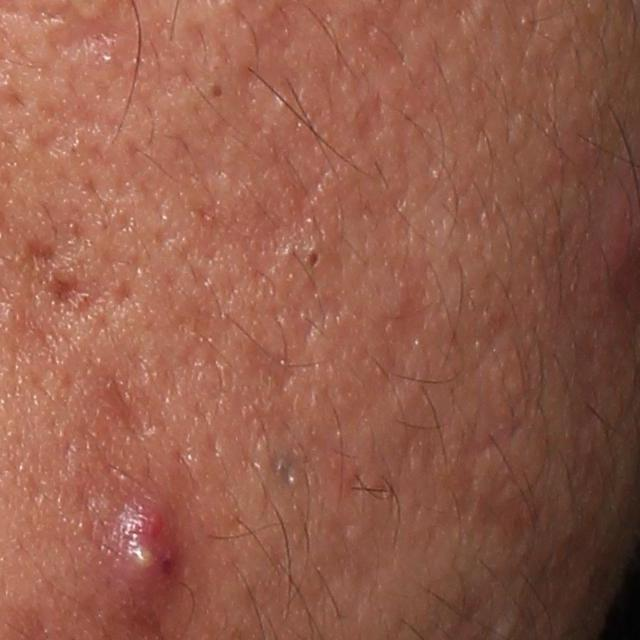atrophic_scar: (179, 151, 356, 279), (445, 316, 523, 520), (370, 284, 429, 414), (98, 370, 155, 442), (19, 219, 81, 274), (237, 338, 298, 392), (42, 272, 97, 318), (252, 4, 295, 52), (352, 90, 386, 149), (105, 276, 139, 307)
comedo: (299, 243, 329, 273), (205, 76, 232, 103)
pustule: (100, 483, 177, 638)
